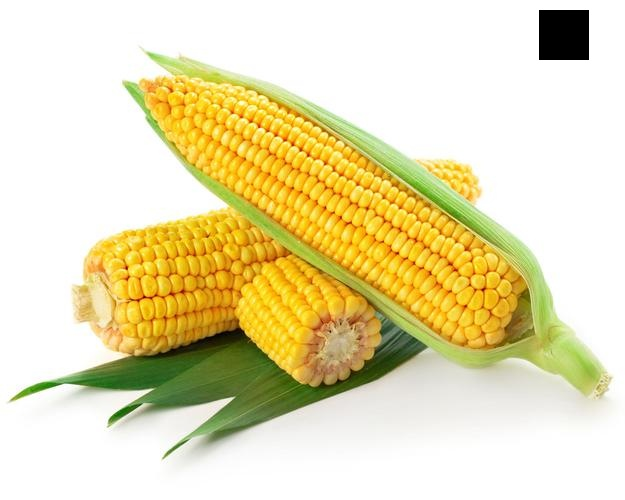corn: (149, 69, 578, 374), (90, 163, 482, 336)
